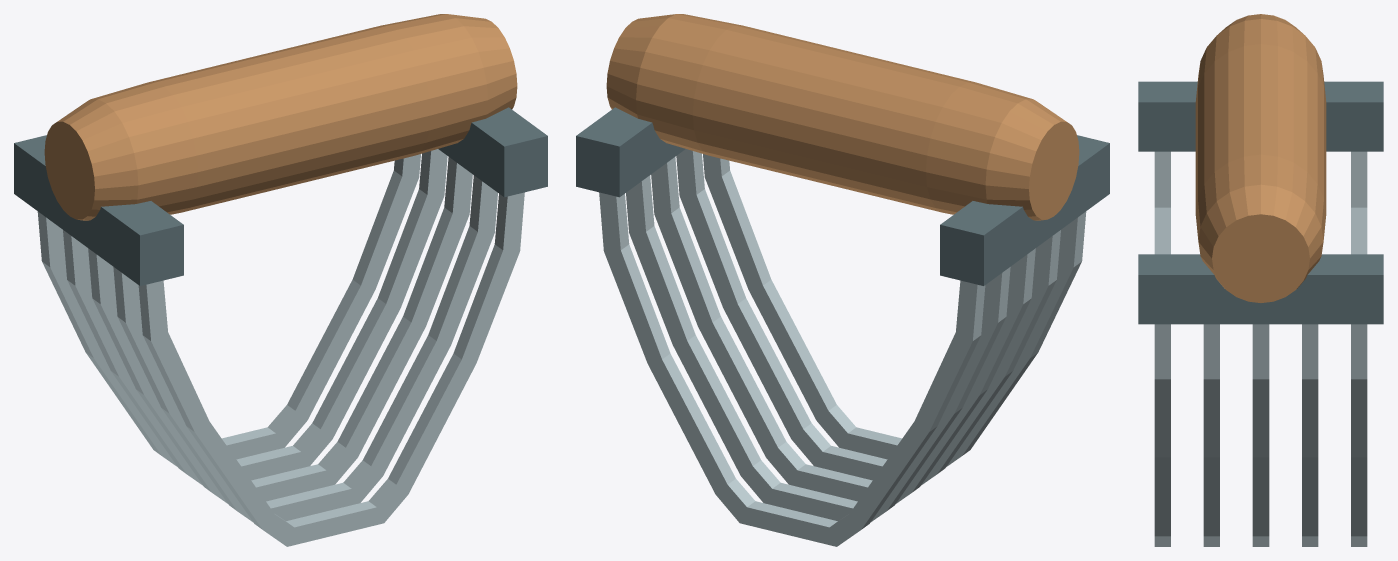
3 renders of one model, left to right at view 1: azimuth 30°, elevation 25°; view 2: azimuth 150°, elevation 25°; view 3: azimuth 270°, elevation 25°, orthographic. The views are drawn at different scales.
Visible parts, largest first — view 1: WholeCrosswiseContouredPalmGrip, WholeCurvedRibbon1, WholeCurvedRibbon2, WholeCurvedRibbon3, WholeCurvedRibbon4, WholeCurvedRibbon5, WholeLeftRibbonEndMount, WholeRightRibbonEndMount; view 2: WholeCrosswiseContouredPalmGrip, WholeCurvedRibbon5, WholeCurvedRibbon4, WholeCurvedRibbon3, WholeCurvedRibbon2, WholeCurvedRibbon1, WholeLeftRibbonEndMount, WholeRightRibbonEndMount; view 3: WholeCrosswiseContouredPalmGrip, WholeRightRibbonEndMount, WholeLeftRibbonEndMount, WholeCurvedRibbon1, WholeCurvedRibbon5, WholeCurvedRibbon3, WholeCurvedRibbon2, WholeCurvedRibbon4.
Boxes of the visible parts, <box> form: WholeCrosswiseContouredPalmGrip: <box>44,14,517,220</box>; WholeCurvedRibbon1: <box>138,192,524,546</box>; WholeCurvedRibbon2: <box>113,175,497,521</box>; WholeCurvedRibbon3: <box>88,157,472,503</box>; WholeCurvedRibbon4: <box>63,149,447,485</box>; WholeCurvedRibbon5: <box>37,154,420,466</box>; WholeLeftRibbonEndMount: <box>14,135,183,285</box>; WholeRightRibbonEndMount: <box>438,107,547,197</box>; WholeCrosswiseContouredPalmGrip: <box>606,14,1079,220</box>; WholeCurvedRibbon5: <box>599,192,985,546</box>; WholeCurvedRibbon4: <box>626,175,1010,521</box>; WholeCurvedRibbon3: <box>651,157,1035,503</box>; WholeCurvedRibbon2: <box>676,149,1060,485</box>; WholeCurvedRibbon1: <box>703,154,1086,466</box>; WholeLeftRibbonEndMount: <box>940,135,1109,285</box>; WholeRightRibbonEndMount: <box>576,107,685,197</box>; WholeCrosswiseContouredPalmGrip: <box>1195,14,1326,302</box>; WholeRightRibbonEndMount: <box>1138,254,1383,324</box>; WholeLeftRibbonEndMount: <box>1138,81,1383,151</box>; WholeCurvedRibbon1: <box>1154,151,1170,546</box>; WholeCurvedRibbon5: <box>1351,151,1367,546</box>; WholeCurvedRibbon3: <box>1252,324,1269,546</box>; WholeCurvedRibbon2: <box>1203,324,1219,546</box>; WholeCurvedRibbon4: <box>1302,324,1318,546</box>.
Bounding box in the file's own units: 0.174 × 0.172 × 0.09.
